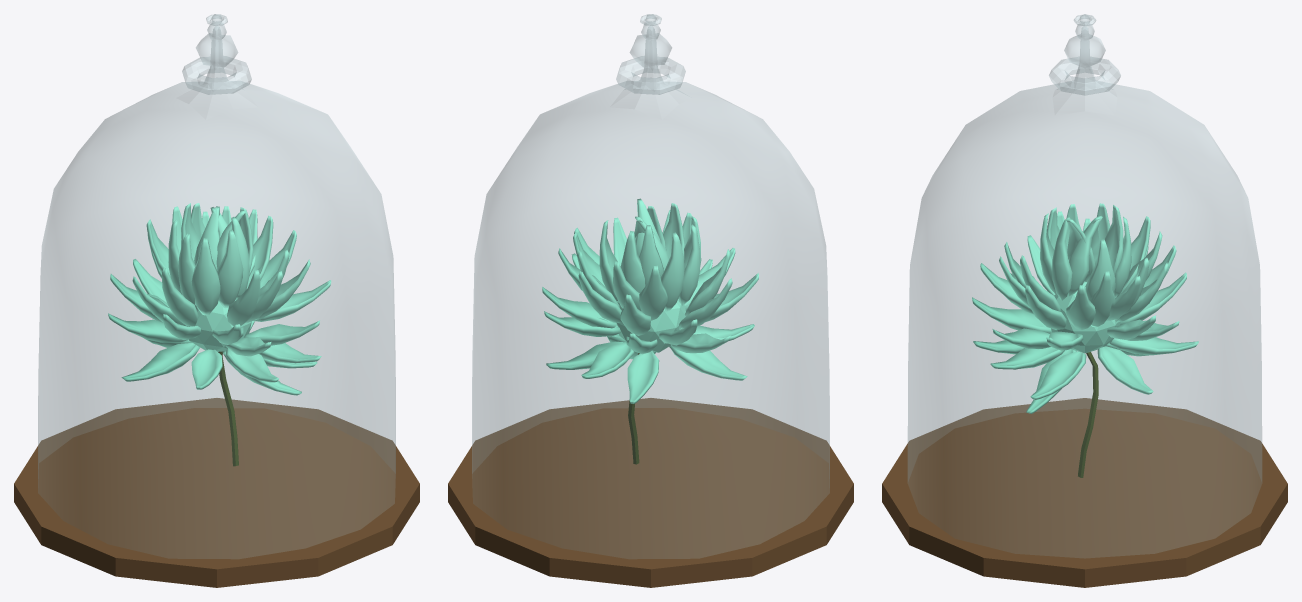
Rendered from blue_flower.glb.
3 renders of one model, left to right at view 1: azimuth 30°, elevation 25°; view 2: azimuth 150°, elevation 25°; view 3: azimuth 270°, elevation 25°, orthographic.
Visible parts, largest first — view 1: case_main, case_base, Plane.009, case_deco_torus_bottom, case_deco_sphere_bottom, flower_stem; view 2: case_main, case_base, Plane.009, case_deco_torus_bottom, case_deco_sphere_bottom; view 3: case_main, case_base, Plane.009, case_deco_torus_bottom, case_deco_sphere_bottom, flower_stem.
Boxes of the visible parts, x1=… form: case_main: x1=38, y1=26, x2=395, y2=558; case_base: x1=14, y1=398, x2=419, y2=587; Plane.009: x1=108, y1=203, x2=331, y2=395; case_deco_torus_bottom: x1=182, y1=56, x2=251, y2=94; case_deco_sphere_bottom: x1=196, y1=33, x2=237, y2=66; flower_stem: x1=218, y1=351, x2=238, y2=466; case_main: x1=472, y1=26, x2=829, y2=558; case_base: x1=448, y1=398, x2=853, y2=587; Plane.009: x1=542, y1=198, x2=758, y2=403; case_deco_torus_bottom: x1=616, y1=56, x2=685, y2=94; case_deco_sphere_bottom: x1=630, y1=33, x2=671, y2=66; case_main: x1=908, y1=26, x2=1261, y2=557; case_base: x1=882, y1=398, x2=1287, y2=587; Plane.009: x1=972, y1=203, x2=1198, y2=413; case_deco_torus_bottom: x1=1049, y1=57, x2=1120, y2=95; case_deco_sphere_bottom: x1=1064, y1=34, x2=1105, y2=67; flower_stem: x1=1078, y1=352, x2=1098, y2=477.
Size of the model in its own units: 10.79 by 14.32 by 10.79.
